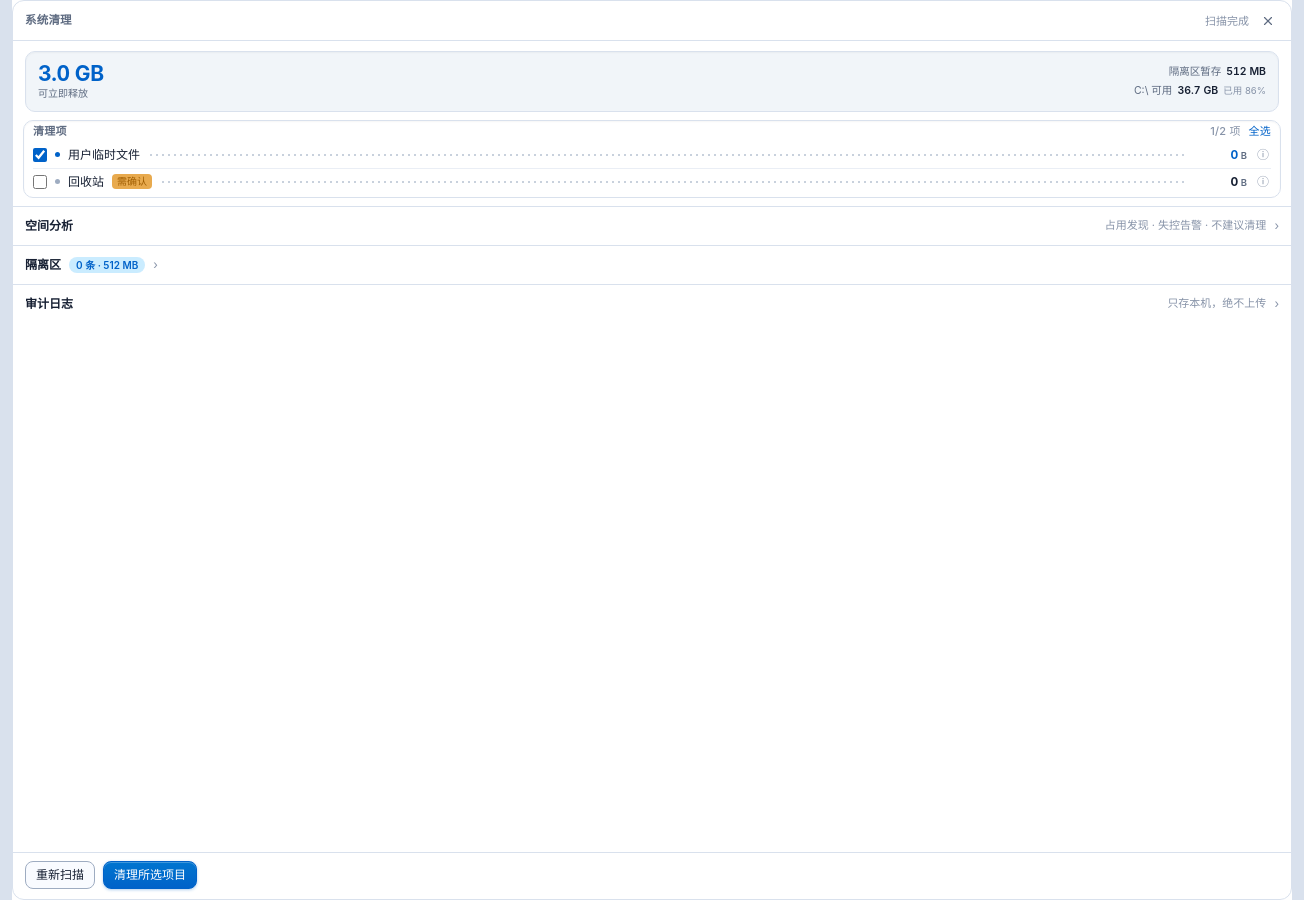
Test case: SystemCleanerTool › 不可恢复项要确认一次，确认后才带 confirmedUnrecoverable 再发一次
Click the checkbox labelled "回收站 需确认 0 B ⓘ".
click(40, 182)  # box [33,175,47,189]
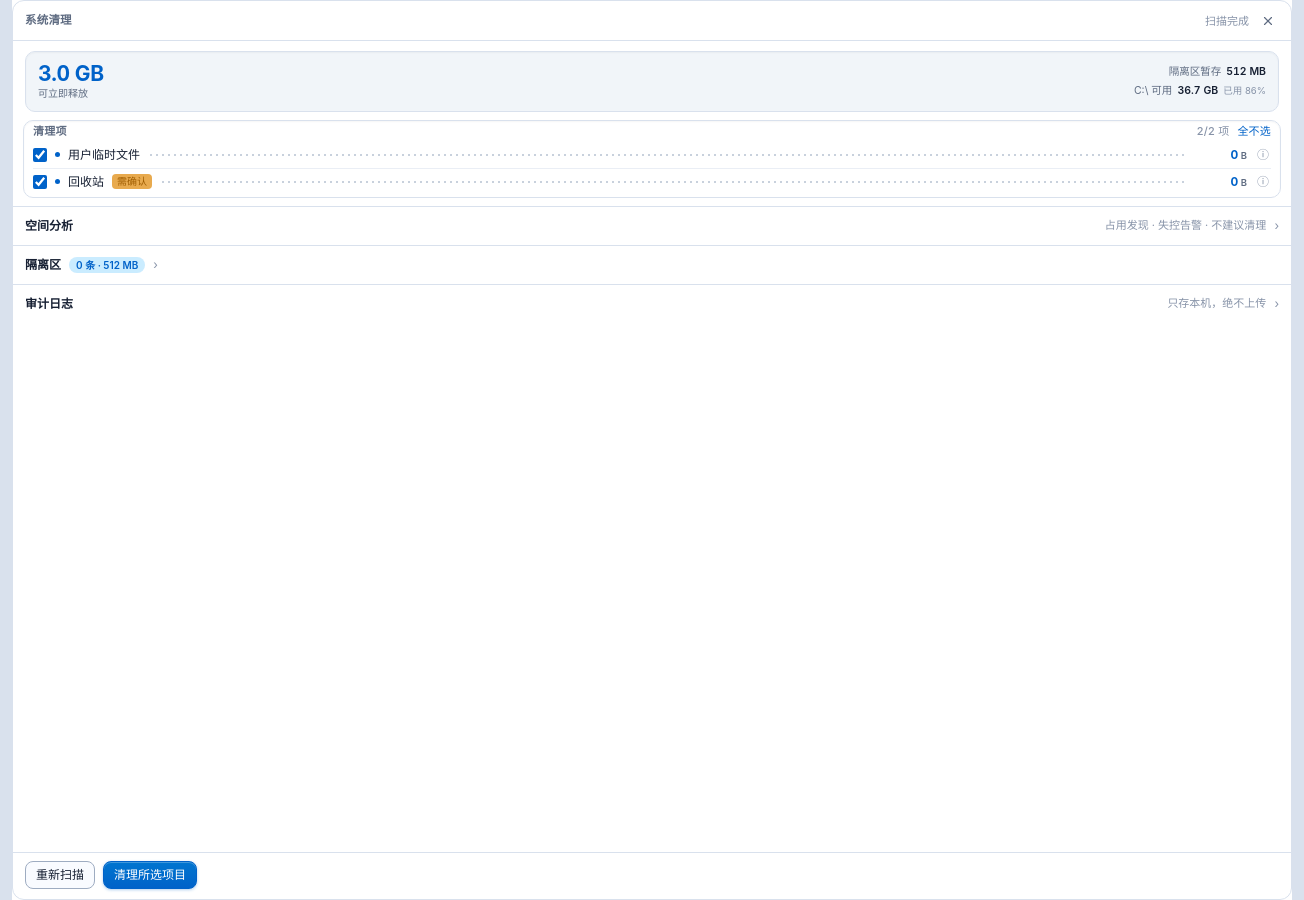
Click the button "清理所选项目".
click(150, 875)  # box [103,861,197,889]
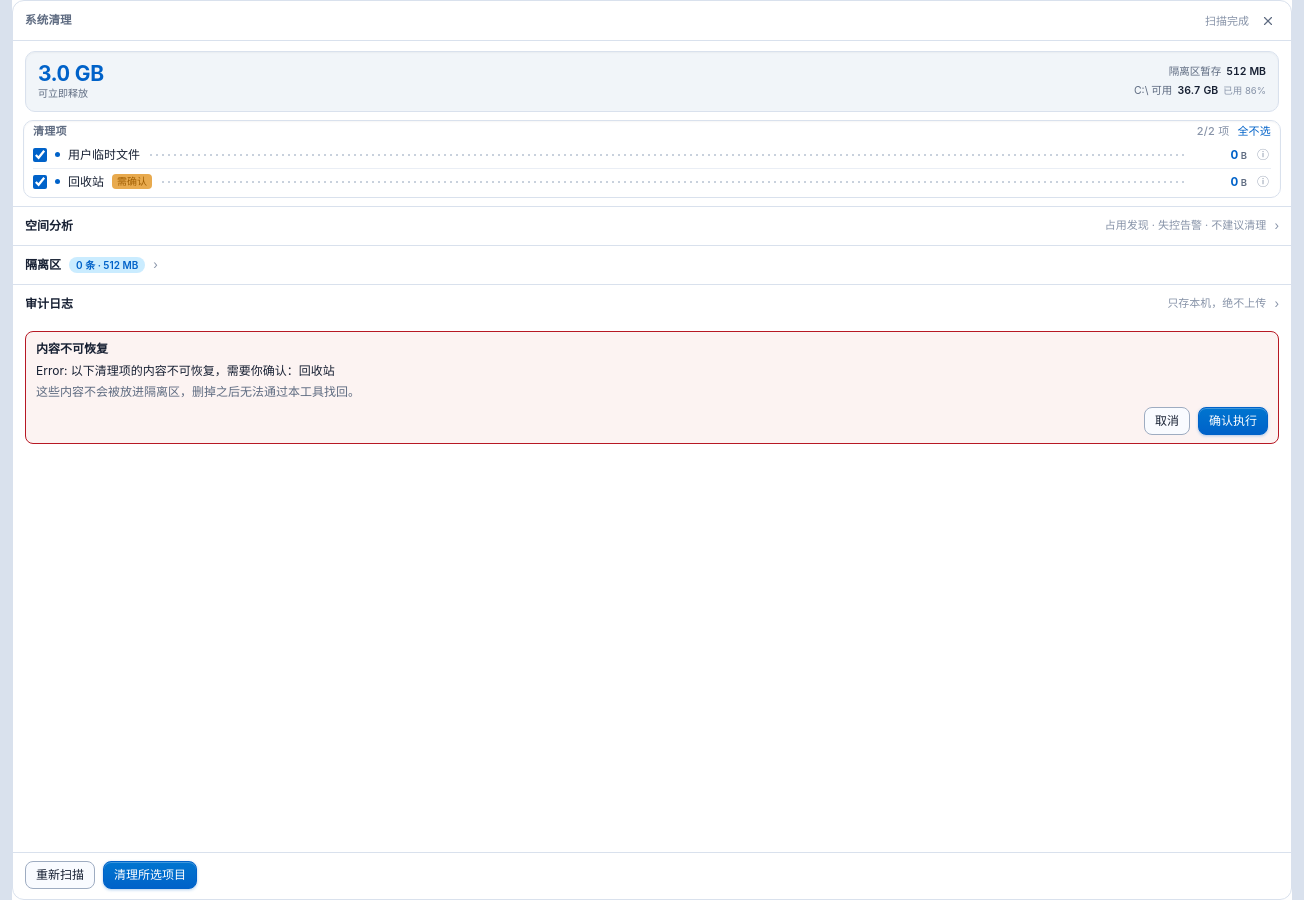
Check: the text "内容不可恢复" is shown, box [36,341,108,356]
Check: the text "Error: 以下清理项的内容不可恢复，需要你确认：回收站" is shown, box [36,363,335,378]
Click the button "确认执行".
click(1233, 421)  # box [1198,407,1268,435]
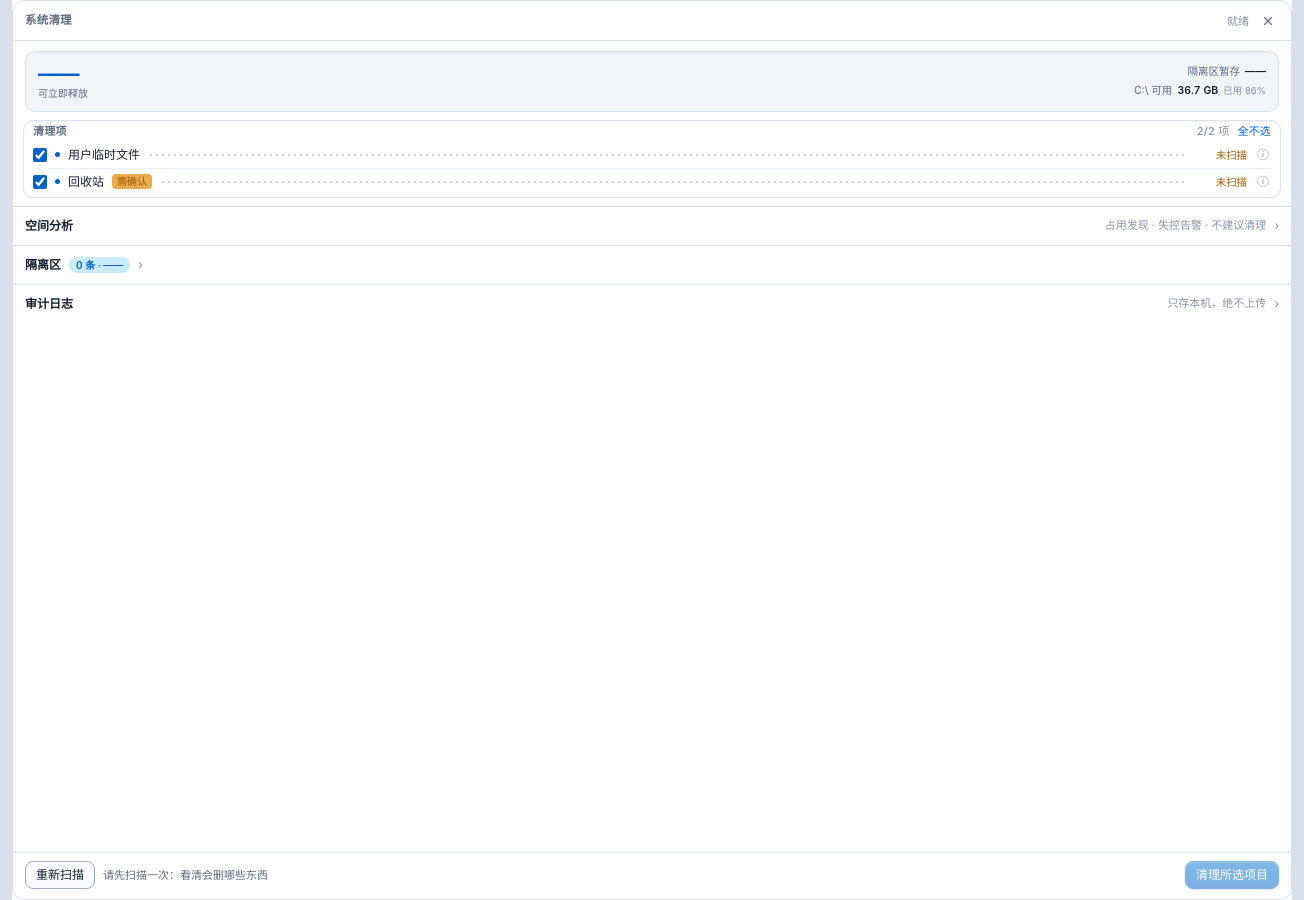
Check: the text "内容不可恢复" is gone
